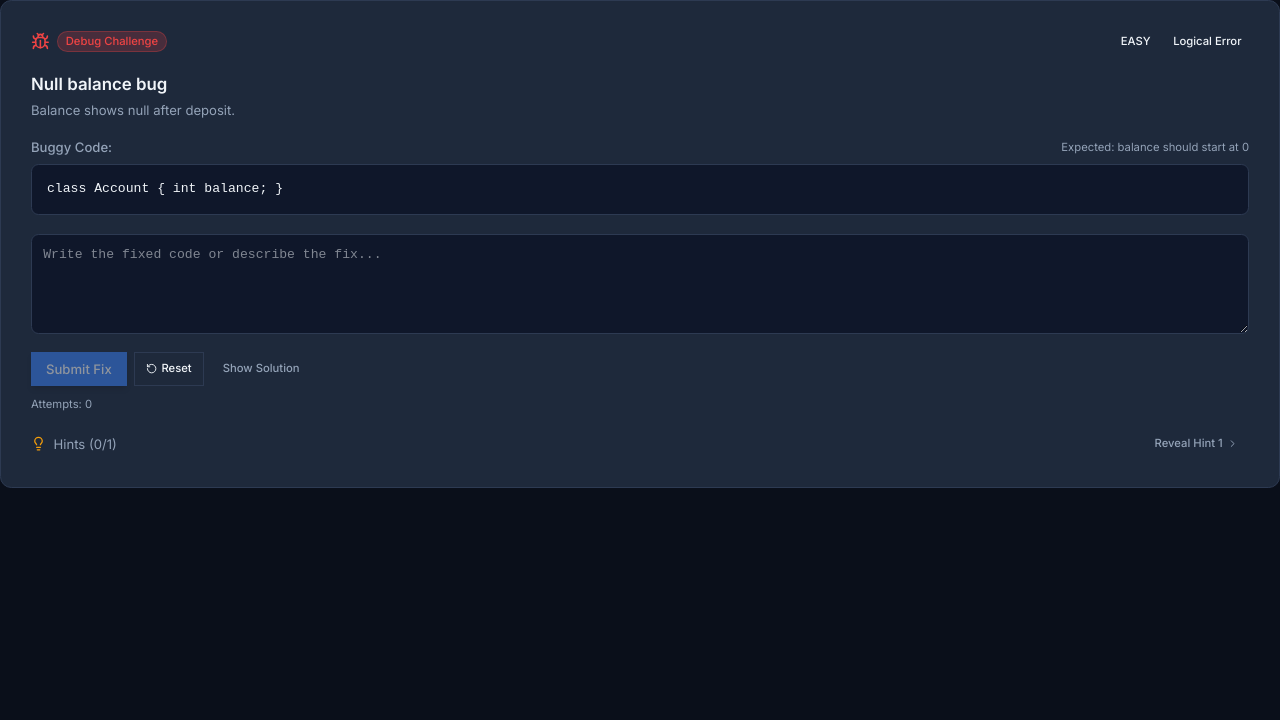
Test: DebuggingLab › accepts a correct fix, awards XP once for first solve
The width and height of the screenshot is (1280, 720).
Type "initialize balance to 0 in the field or constructor" into the text box at (640,284), box x1=31 y1=234 x2=1249 y2=334
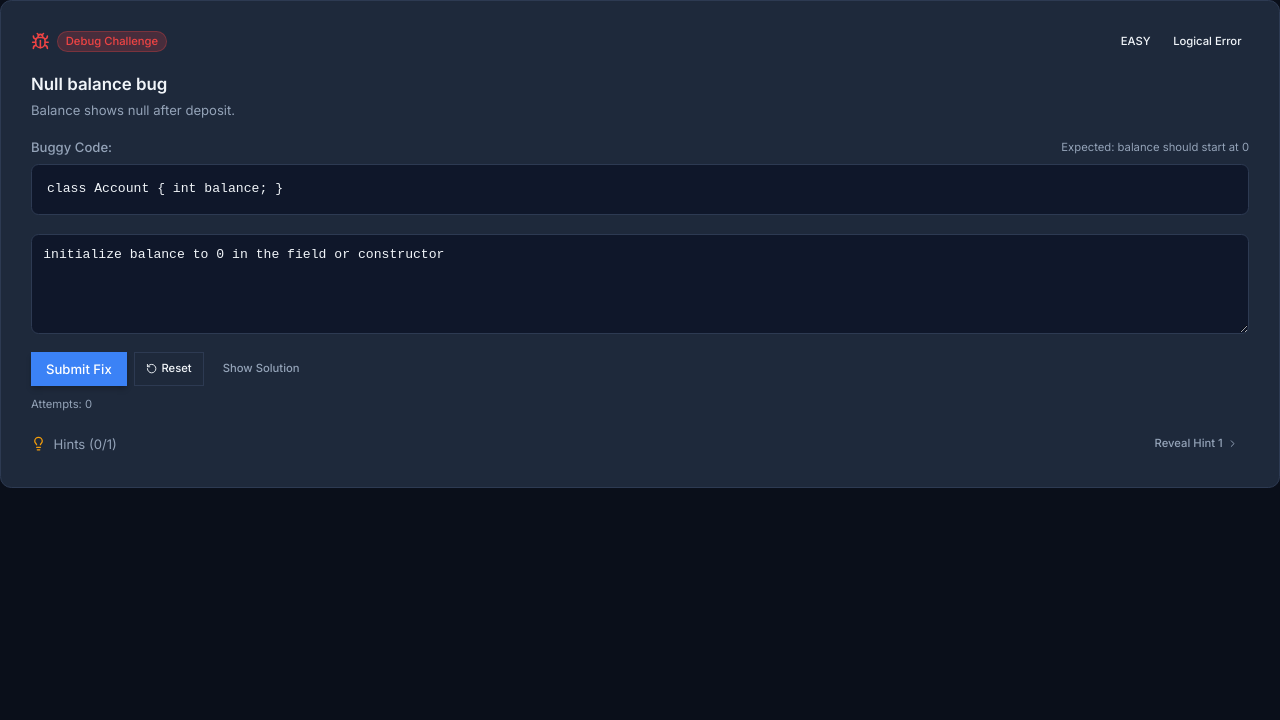
Click the button "Submit Fix" at (79,369), box x1=31 y1=352 x2=127 y2=386
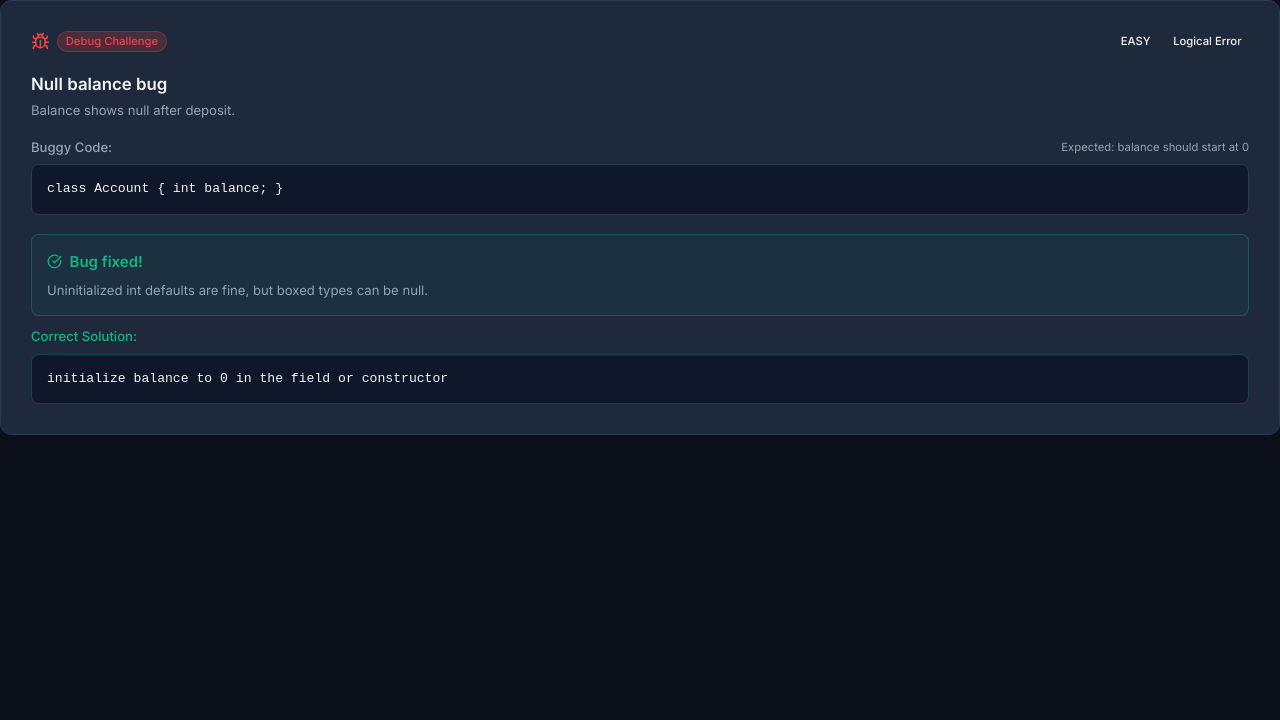
Check: the text "Correct Solution:" is shown, box x1=31 y1=327 x2=137 y2=346
